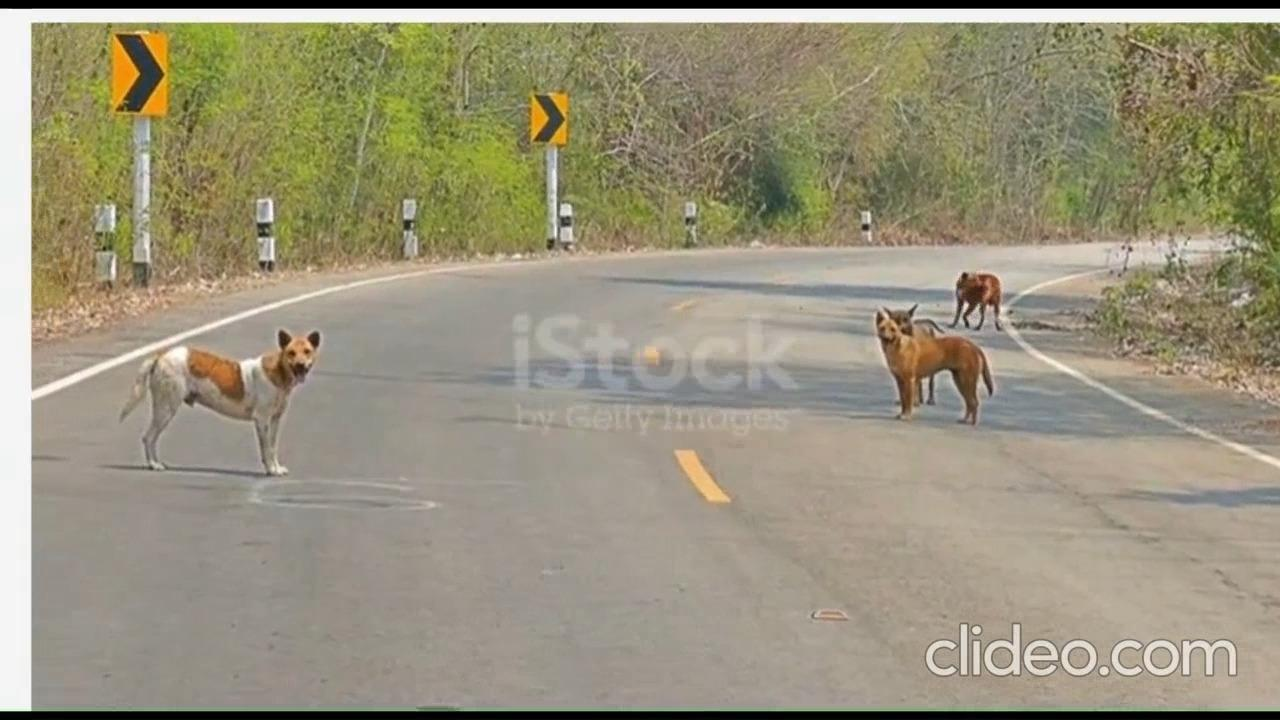dog: (125, 326, 321, 486), (860, 311, 984, 426), (955, 267, 1003, 335)
